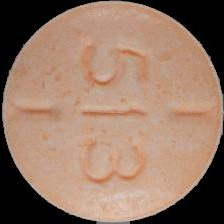63629-2806: (0, 0, 224, 224)
